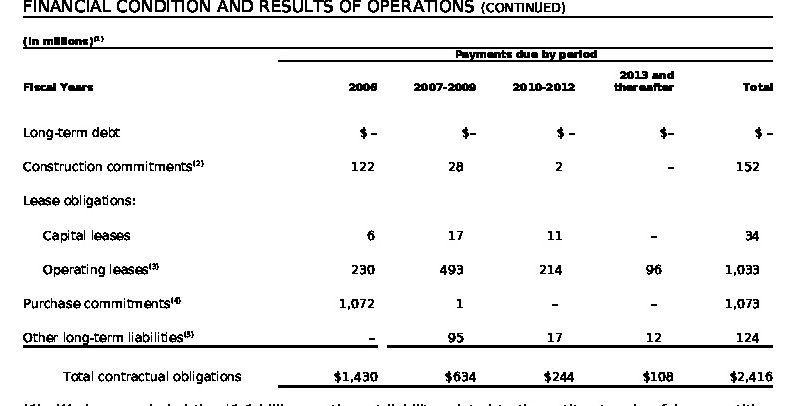table: (0, 0, 797, 406)
